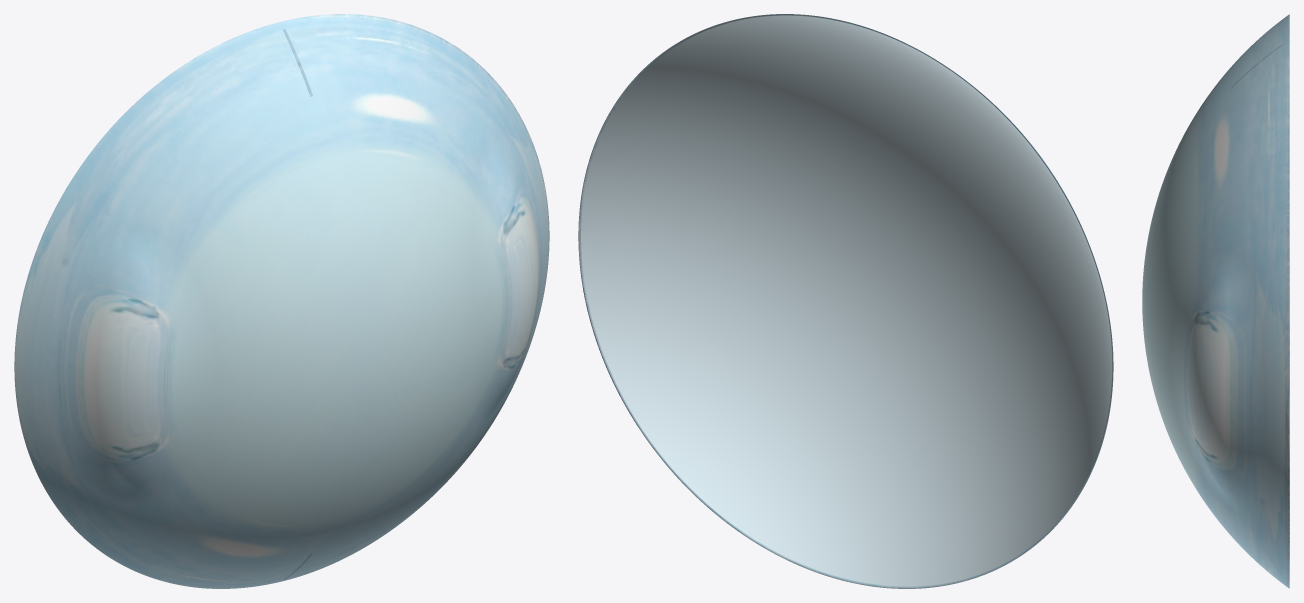
File: lens_clear.glb
The picture shows the model from 3 angles, left to right: view 1: azimuth 30°, elevation 25°; view 2: azimuth 150°, elevation 25°; view 3: azimuth 270°, elevation 25°; orthographic projection. The views are drawn at different scales.
Parts seen in each view (by area): view 1: lens; view 2: 오브젝트, lens; view 3: lens.
Part boxes in pixels (left/top/right/bottom): lens: left=14, top=14, right=549, bottom=588; 오브젝트: left=581, top=15, right=1111, bottom=586; lens: left=578, top=14, right=1113, bottom=588; lens: left=1142, top=14, right=1289, bottom=588.
Bounding box in the file's own units: 0.0999 × 0.0999 × 0.0256.
2 materials, 1 textured.
